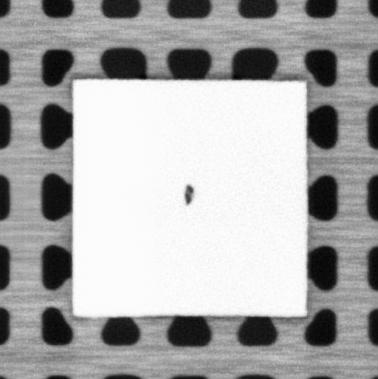DIE_INK: (184, 182, 193, 204)
